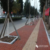zebra: (1, 22, 33, 49)
